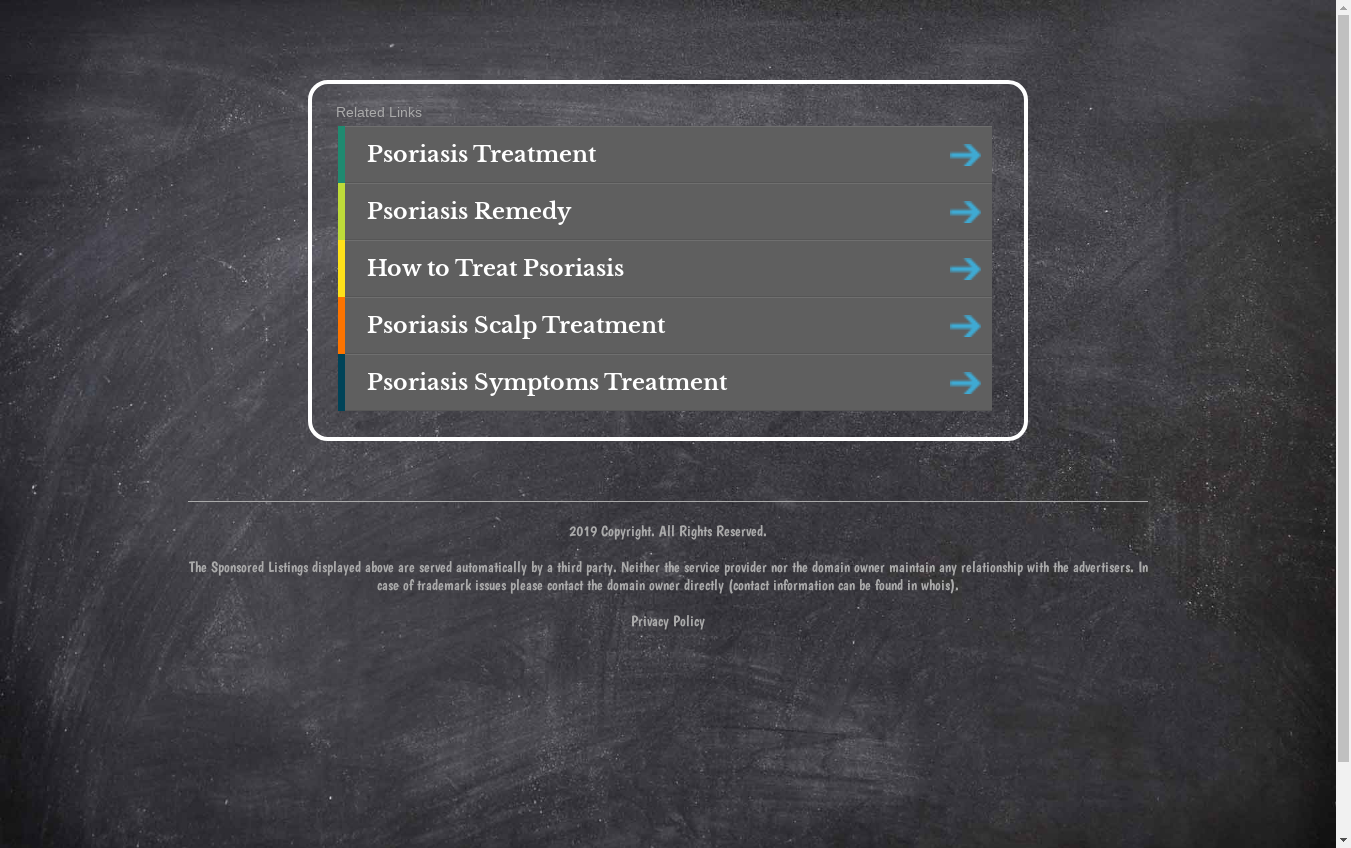fake_button: (918, 124, 991, 413)
